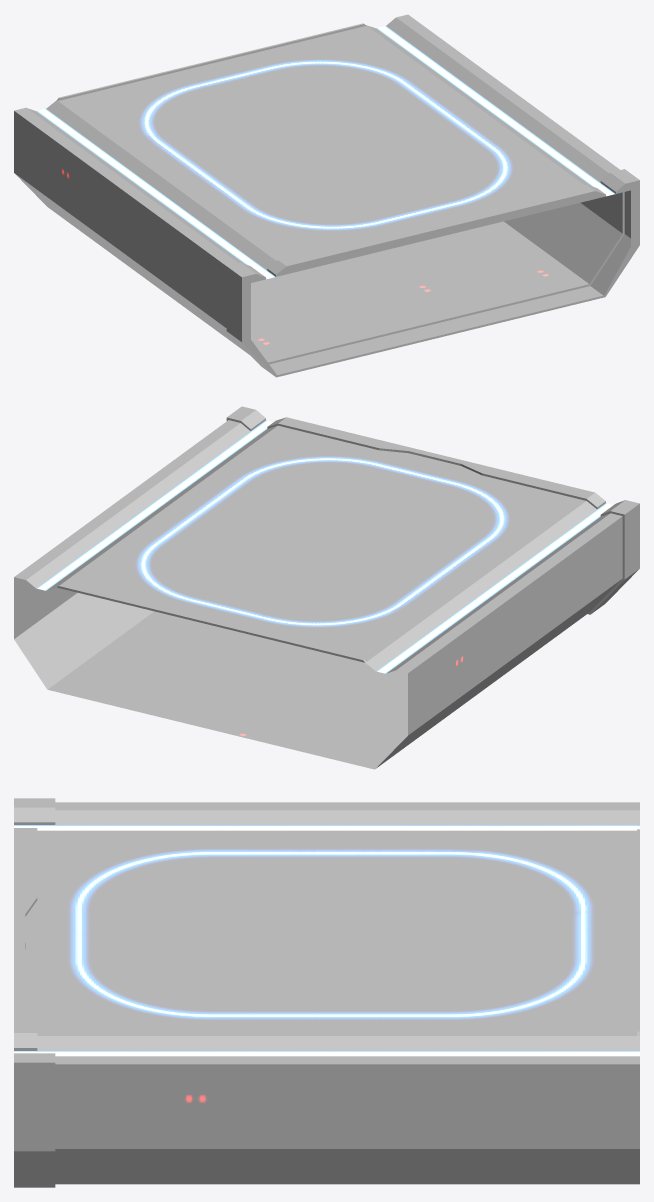
File: Straight_NoCaps.fbx
3 views of the same model, one above another, from view 1: azimuth 30°, elevation 25°; view 2: azimuth 150°, elevation 25°; view 3: azimuth 270°, elevation 25° (orthographic). The views are drawn at different scales.
Visible parts, largest first — view 1: Straight_NoCaps; view 2: Straight_NoCaps; view 3: Straight_NoCaps.
Part boxes in pixels (x1,y1,x2,y2): Straight_NoCaps: (14,14,639,377); Straight_NoCaps: (14,406,639,769); Straight_NoCaps: (14,798,639,1187).
Bounding box in the file's own units: 2.5 × 0.6517 × 2.5.
